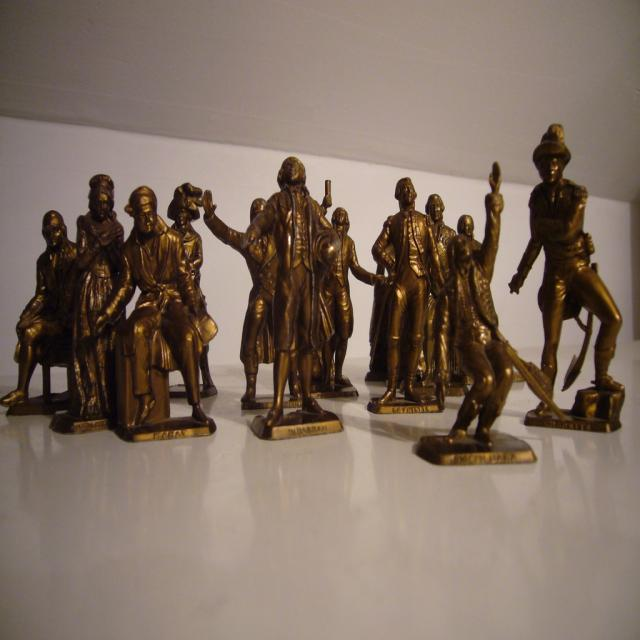Toy: (0, 122, 622, 464)
